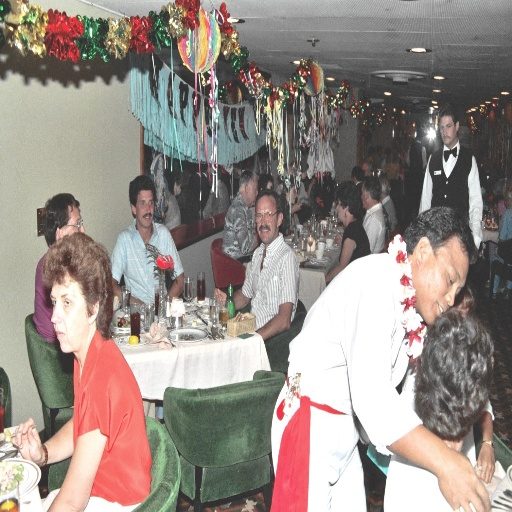hand: (435, 446, 492, 511), (7, 413, 39, 482), (476, 440, 496, 484), (212, 287, 228, 308), (292, 201, 303, 214), (300, 169, 308, 181), (310, 176, 317, 186)
